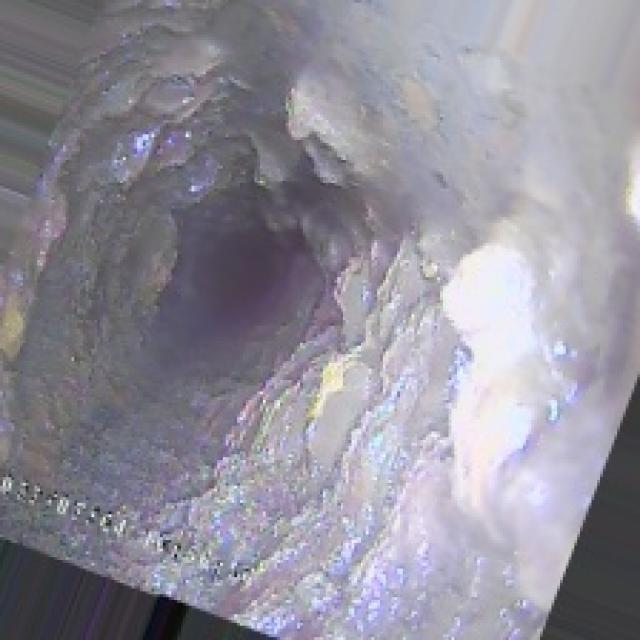encrustation: (180, 26, 557, 526)
